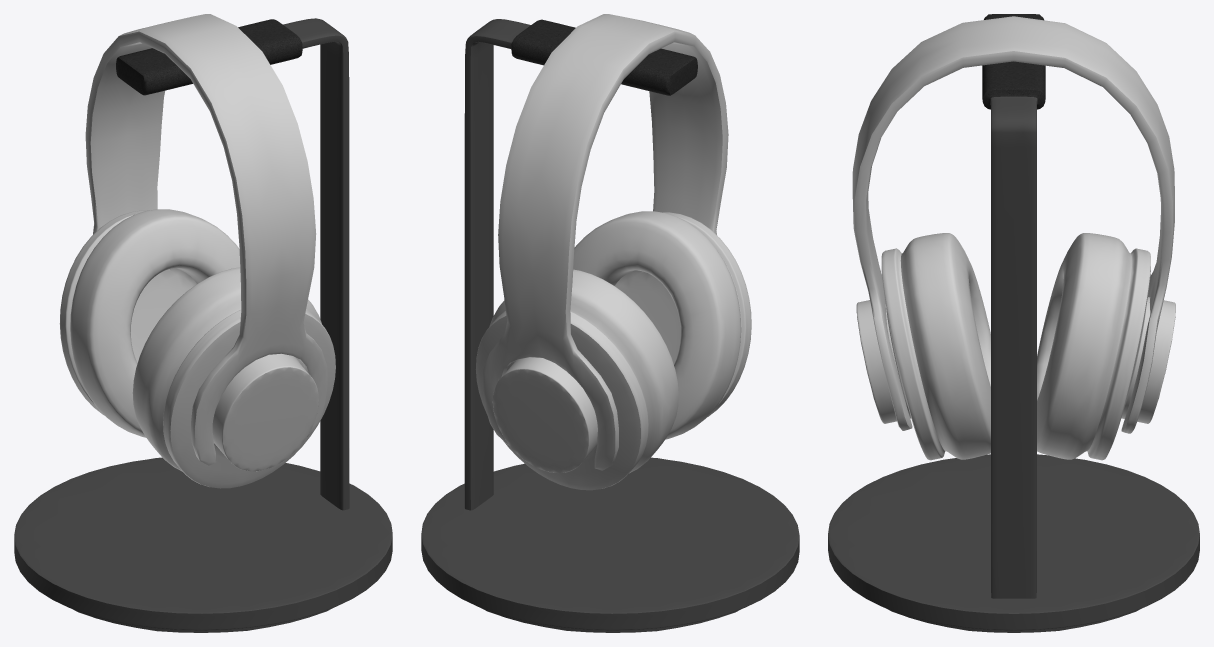
The picture shows the model from 3 angles, left to right: view 1: azimuth 30°, elevation 25°; view 2: azimuth 150°, elevation 25°; view 3: azimuth 270°, elevation 25°; orthographic projection.
Parts seen in each view (by area): view 1: HPM Headphones on Stand.Shape; view 2: HPM Headphones on Stand.Shape; view 3: HPM Headphones on Stand.Shape.
Boxes of the visible parts, x1=… form: HPM Headphones on Stand.Shape: x1=14, y1=14, x2=392, y2=632; HPM Headphones on Stand.Shape: x1=421, y1=14, x2=799, y2=632; HPM Headphones on Stand.Shape: x1=828, y1=14, x2=1199, y2=632.
Bounding box in the file's own units: 0.148 × 0.2269 × 0.1452.
